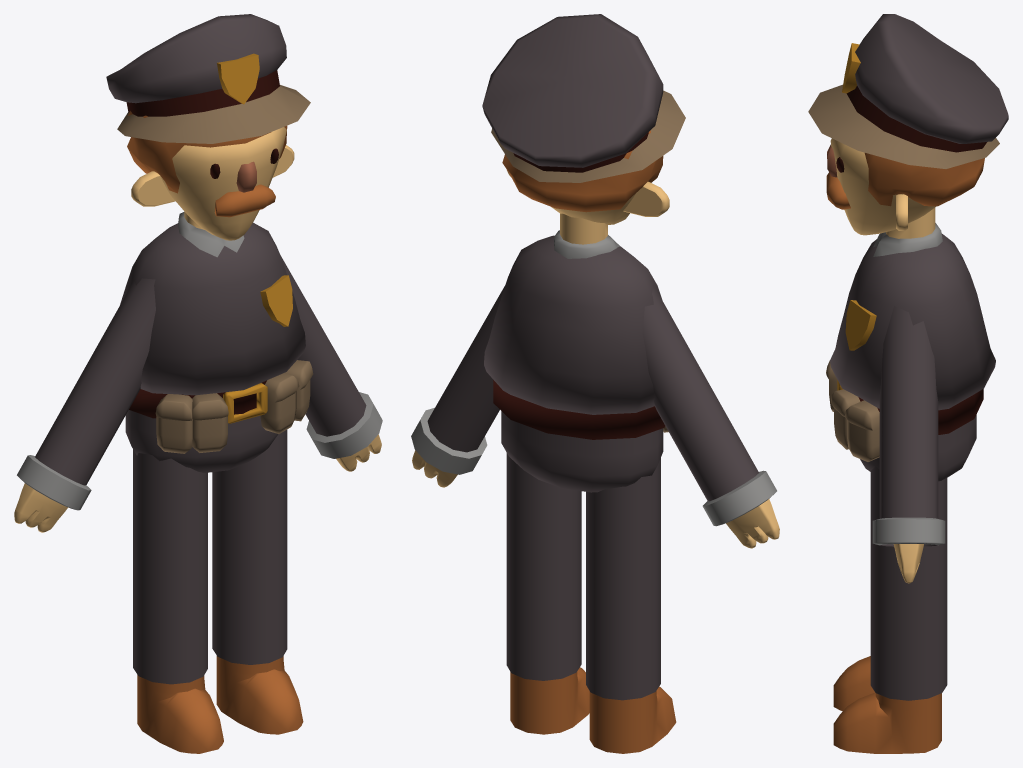
The model's file is NPC_PoliceMan1_ArmsDown.fbx.
The picture shows the model from 3 angles, left to right: view 1: azimuth 30°, elevation 25°; view 2: azimuth 150°, elevation 25°; view 3: azimuth 270°, elevation 25°; orthographic projection.
Parts seen in each view (by area): view 1: NPC_PoliceOfficer_ArmsDown; view 2: NPC_PoliceOfficer_ArmsDown; view 3: NPC_PoliceOfficer_ArmsDown.
Boxes of the visible parts, x1,y1,x2,y2 form: NPC_PoliceOfficer_ArmsDown: (14, 14, 382, 753); NPC_PoliceOfficer_ArmsDown: (411, 14, 779, 753); NPC_PoliceOfficer_ArmsDown: (808, 14, 1008, 753).
Size of the model in its own units: 6.72 by 12.42 by 3.23.
